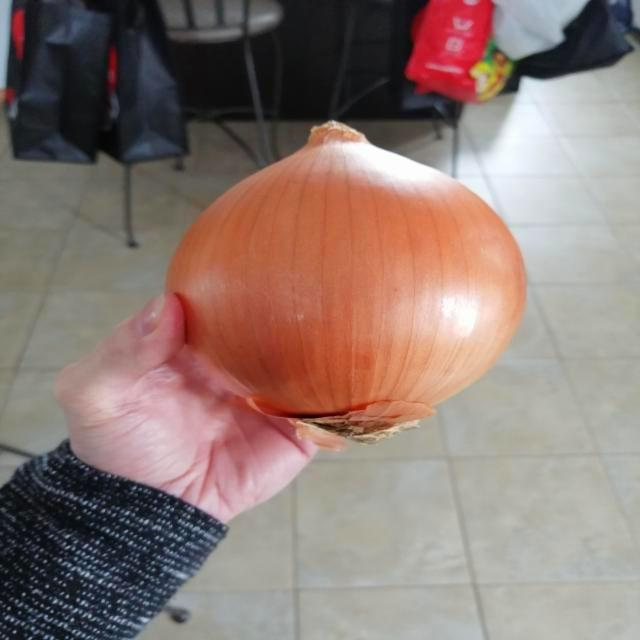onion: (166, 119, 529, 437)
